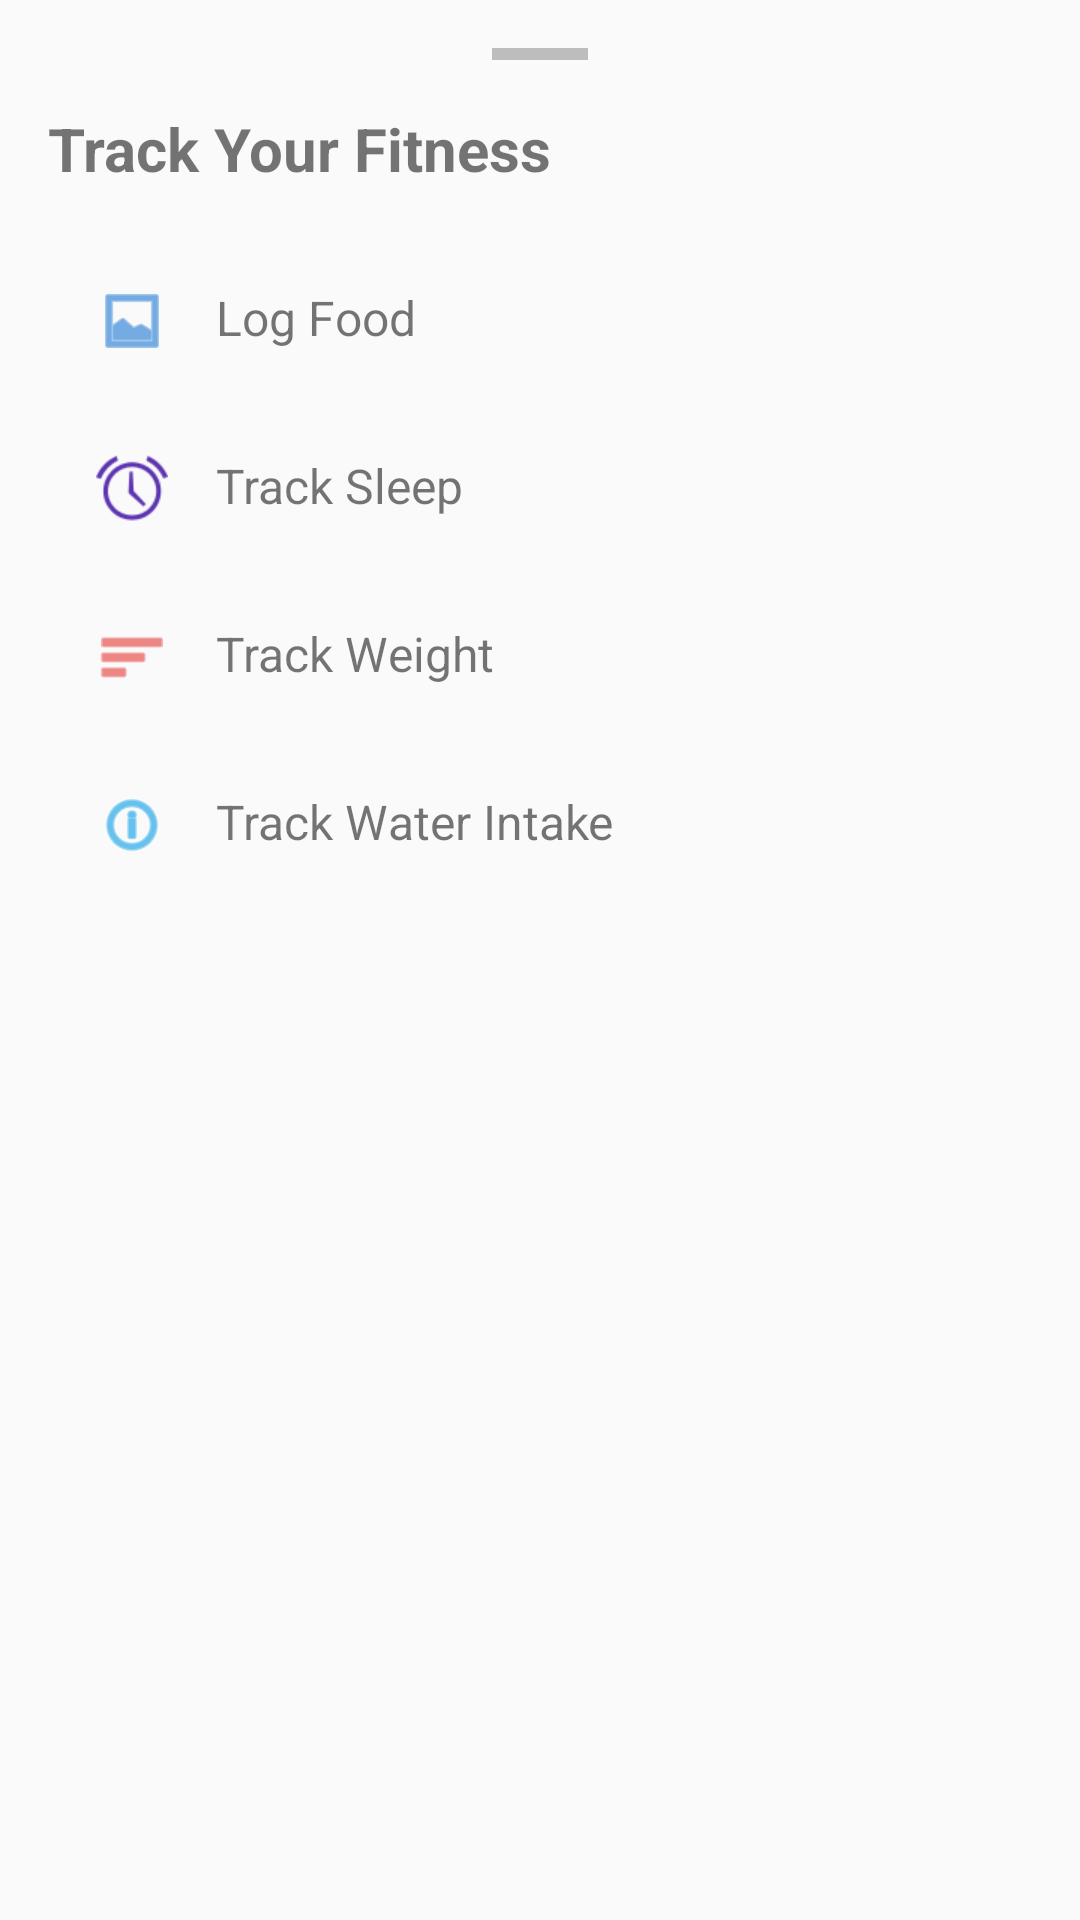

Point at icon controls on the screen. Image size 1080px×1920px, points as (x,y).
gallery: (132,321)
info details: (132,825)
lock idle alarm: (132,488)
sort by size: (132,657)
